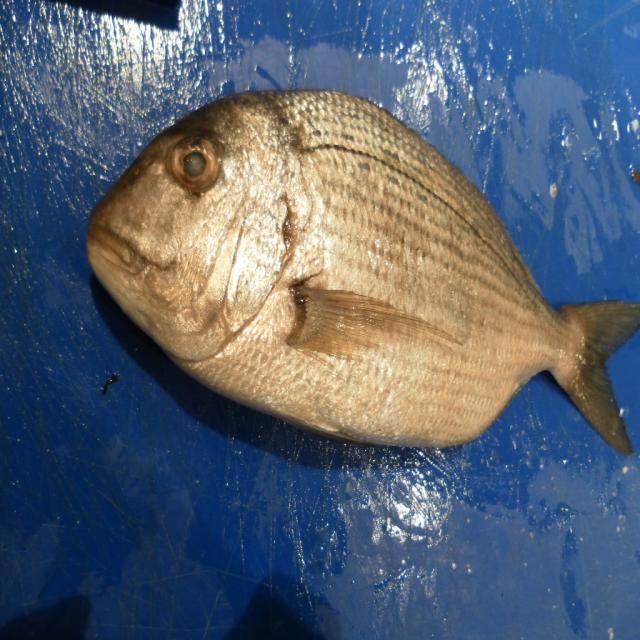Red-Sea-Bream-mercan-: (86, 90, 640, 458)
